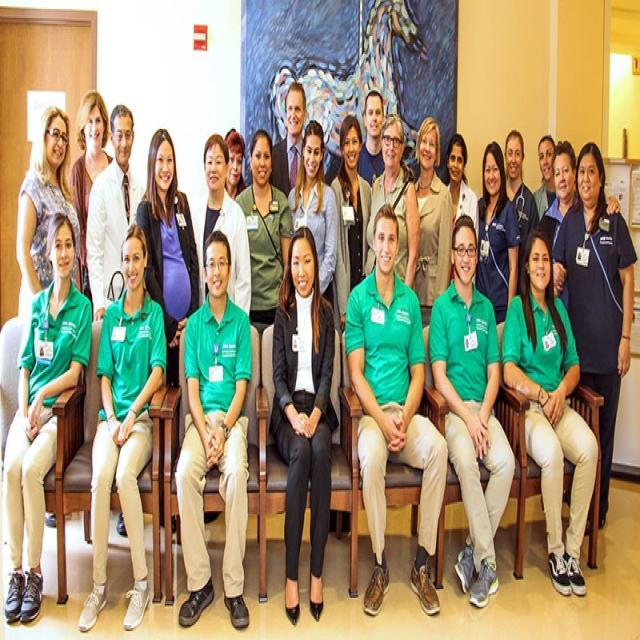body: (343, 196, 450, 619), (0, 207, 94, 628), (76, 219, 169, 635), (499, 223, 600, 600), (427, 211, 518, 610), (548, 138, 638, 538), (172, 226, 255, 631), (548, 138, 624, 509), (269, 222, 336, 628), (13, 102, 82, 382), (134, 123, 202, 393), (85, 100, 148, 328), (234, 126, 296, 325), (474, 140, 522, 382), (286, 117, 341, 324), (193, 132, 253, 321), (328, 112, 376, 339), (362, 113, 421, 290), (68, 90, 115, 303), (410, 114, 455, 334), (503, 126, 541, 295), (440, 132, 479, 291), (267, 79, 312, 198), (354, 87, 386, 190), (532, 136, 558, 222), (222, 127, 247, 201)
